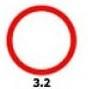road_sign: (6, 5, 78, 75)
